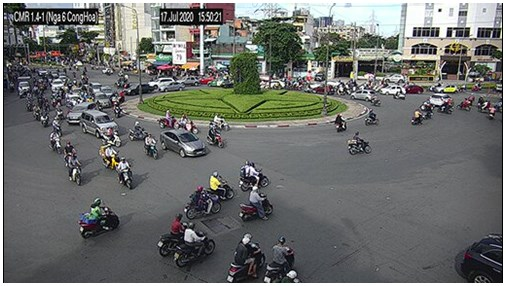xe_hoi: (464, 234, 503, 283), (160, 130, 207, 157), (81, 110, 119, 137), (67, 101, 97, 123), (124, 84, 156, 95), (349, 88, 373, 102), (145, 77, 173, 87), (432, 83, 460, 93), (311, 84, 333, 96), (159, 82, 184, 92), (206, 76, 231, 86), (263, 80, 286, 90), (382, 73, 404, 83), (94, 92, 109, 106), (176, 76, 199, 85), (380, 85, 400, 95), (402, 86, 423, 95), (51, 80, 66, 91), (89, 82, 101, 91), (100, 86, 110, 96)
xe_may: (226, 232, 266, 282), (176, 223, 215, 267), (78, 198, 119, 239), (264, 236, 295, 282), (157, 214, 189, 257), (239, 185, 273, 222), (185, 186, 222, 218), (240, 160, 270, 191), (205, 170, 234, 201), (346, 130, 371, 156), (99, 144, 122, 171), (65, 152, 82, 187), (118, 157, 135, 190), (178, 114, 199, 135), (143, 133, 159, 159), (103, 126, 121, 147), (208, 125, 223, 150), (130, 122, 149, 141), (211, 113, 230, 132), (160, 110, 178, 130), (49, 130, 63, 154), (64, 140, 76, 166), (335, 110, 347, 134), (363, 108, 378, 126), (417, 100, 429, 119), (438, 98, 452, 114), (51, 116, 62, 136), (455, 98, 470, 111), (410, 108, 420, 126), (113, 97, 121, 116), (32, 101, 40, 119), (393, 88, 405, 100), (478, 101, 491, 112), (26, 91, 33, 111), (371, 93, 380, 108), (40, 108, 47, 126), (487, 105, 494, 121), (54, 103, 62, 116), (466, 93, 474, 105)
